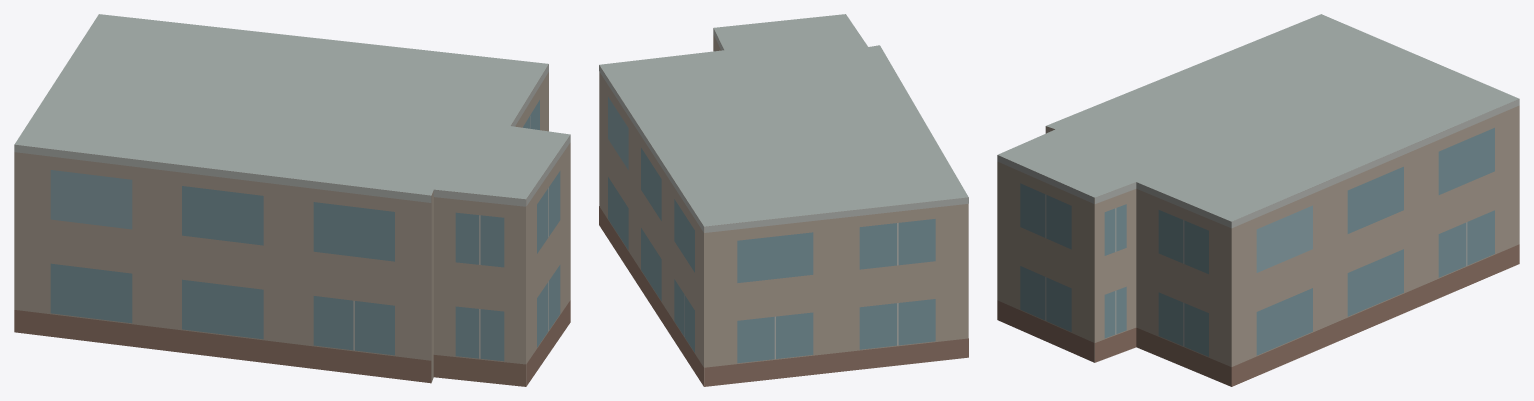
Rendered from survey-upis-32597987.glb.
The picture shows the model from 3 angles, left to right: view 1: azimuth 30°, elevation 25°; view 2: azimuth 150°, elevation 25°; view 3: azimuth 270°, elevation 25°; orthographic projection. The views are drawn at different scales.
Parts seen in each view (by area): view 1: survey-upis-32597987.tmp; view 2: survey-upis-32597987.tmp; view 3: survey-upis-32597987.tmp.
Part boxes in pixels (x1,y1,x2,y2): survey-upis-32597987.tmp: [14, 14, 570, 386]; survey-upis-32597987.tmp: [599, 14, 968, 386]; survey-upis-32597987.tmp: [997, 14, 1519, 386].
Bounding box in the file's own units: 16.47 × 6.1 × 17.49.
